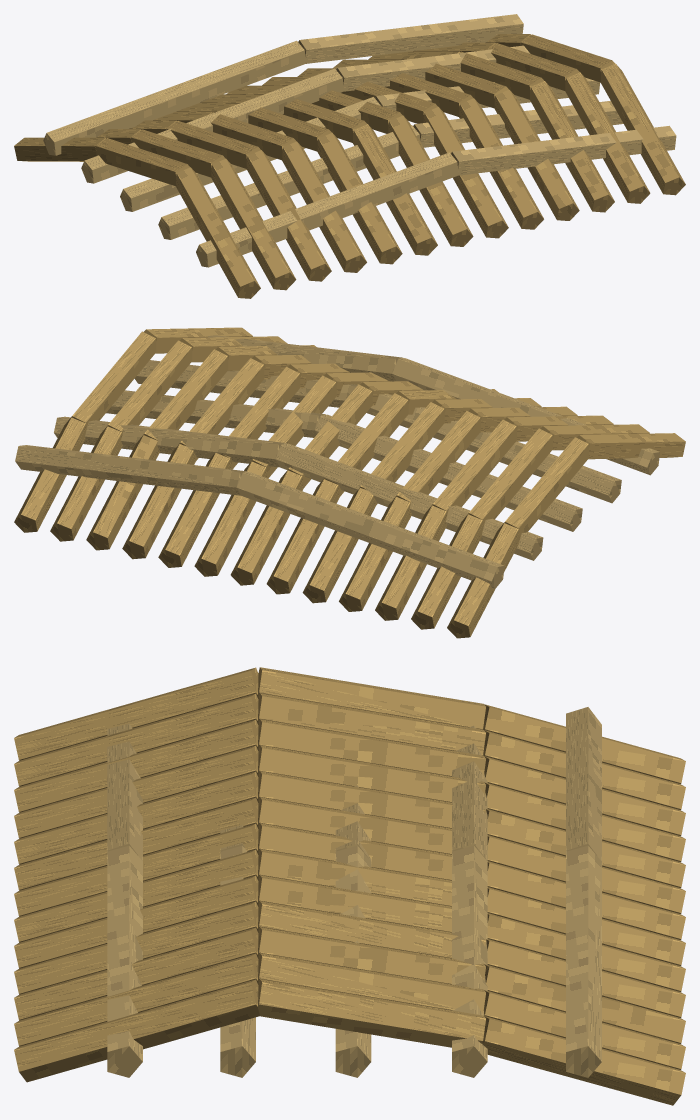
Rendered from yrax_electronics.glb.
3 renders of one model, top to bottom at view 1: azimuth 30°, elevation 25°; view 2: azimuth 150°, elevation 25°; view 3: azimuth 270°, elevation 25°, orthographic. The views are drawn at different scales.
Parts seen in each view (by area): view 1: block_interlaced metallic strip 2 (×13), block_interlaced metallic strip 1 (×13), block_cross-weave strips 0 (×5), block_cross-weave strips 1 (×5), block_interlaced metallic strip 0 (×3); view 2: block_interlaced metallic strip 0 (×13), block_interlaced metallic strip 1 (×13), block_cross-weave strips 0 (×5), block_cross-weave strips 1 (×5), block_interlaced metallic strip 2 (×13); view 3: block_interlaced metallic strip 2 (×13), block_interlaced metallic strip 1 (×13), block_interlaced metallic strip 0 (×13), block_cross-weave strips 1 (×5), block_cross-weave strips 0 (×4).
Boxes of the visible parts, box(x1,y1,x2,y2) form: block_interlaced metallic strip 2 (×13): box(176, 63, 685, 298); block_interlaced metallic strip 1 (×13): box(95, 34, 614, 186); block_cross-weave strips 0 (×5): box(43, 40, 458, 267); block_cross-weave strips 1 (×5): box(298, 14, 676, 175); block_interlaced metallic strip 0 (×3): box(14, 42, 495, 161); block_interlaced metallic strip 0 (×13): box(14, 417, 519, 638); block_interlaced metallic strip 1 (×13): box(66, 331, 589, 538); block_cross-weave strips 0 (×5): box(236, 358, 659, 588); block_cross-weave strips 1 (×5): box(15, 335, 403, 495); block_interlaced metallic strip 2 (×13): box(144, 327, 685, 459); block_interlaced metallic strip 2 (×13): box(14, 667, 259, 1082); block_interlaced metallic strip 1 (×13): box(258, 667, 485, 1047); block_interlaced metallic strip 0 (×13): box(482, 704, 685, 1105); block_cross-weave strips 1 (×5): box(107, 845, 601, 1077); block_cross-weave strips 0 (×4): box(107, 707, 601, 861).
Size of the model in its own units: 0.191 by 0.0358 by 0.1565.
1 material, 1 textured.
